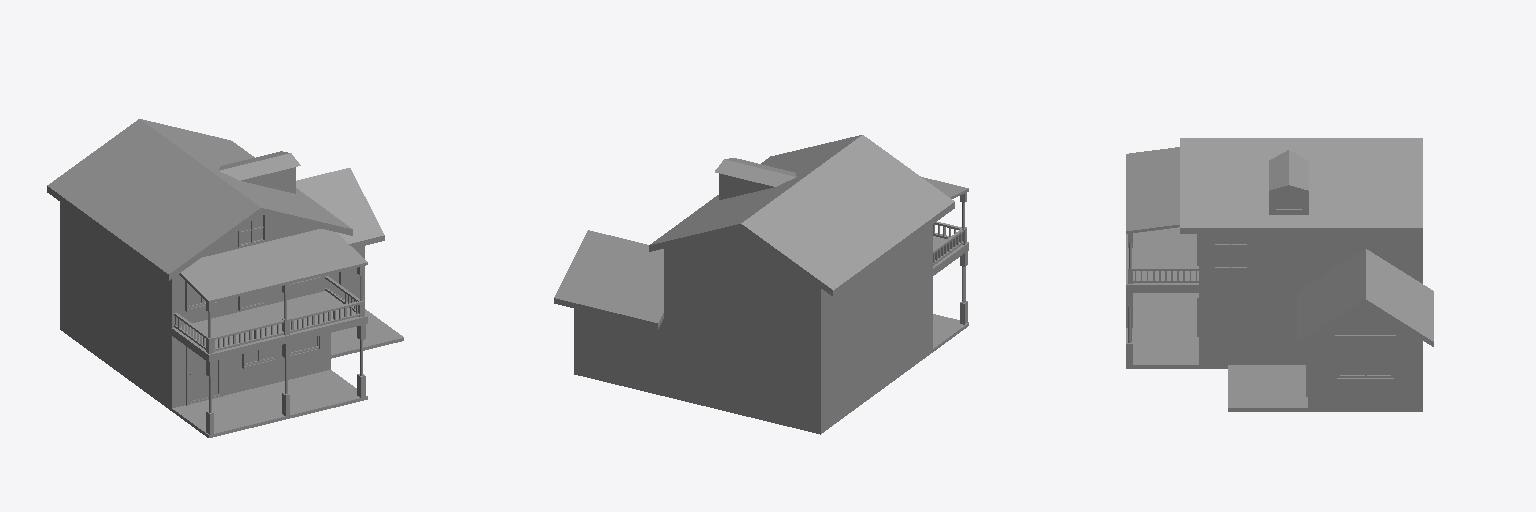
The model's file is house.obj.
3 renders of one model, left to right at view 1: azimuth 30°, elevation 25°; view 2: azimuth 150°, elevation 25°; view 3: azimuth 270°, elevation 25°, orthographic.
Parts seen in each view (by area): view 1: house_walls1, house_small_roof, house_floor, house_poles, house_walls, house_wood, house_smal_roof, house_windows; view 2: house_walls1, house_walls, house_smal_roof, house_floor, house_wood; view 3: house_walls1, house_walls, house_floor, house_small_roof, house_poles, house_window, house_smal_roof, house_window4, house_wood.
Boxes of the visible parts, x1,y1,x2,y2 form: house_walls1: [47, 119, 352, 410]; house_small_roof: [179, 229, 367, 303]; house_floor: [172, 309, 403, 437]; house_poles: [172, 291, 367, 361]; house_walls: [296, 168, 384, 302]; house_wood: [174, 276, 359, 351]; house_smal_roof: [219, 151, 300, 193]; house_windows: [238, 214, 265, 247]; house_walls1: [649, 135, 954, 434]; house_walls: [554, 230, 663, 395]; house_smal_roof: [715, 158, 796, 199]; house_floor: [933, 314, 968, 351]; house_wood: [933, 222, 963, 265]; house_walls1: [1180, 138, 1422, 368]; house_walls: [1297, 248, 1433, 411]; house_floor: [1126, 293, 1307, 411]; house_small_roof: [1126, 147, 1179, 233]; house_poles: [1126, 227, 1198, 292]; house_window: [1335, 335, 1395, 380]; house_smal_roof: [1269, 150, 1308, 214]; house_window4: [1212, 234, 1249, 271]; house_wood: [1133, 268, 1198, 282].
Bounding box in the file's own units: 816 × 544 × 793.